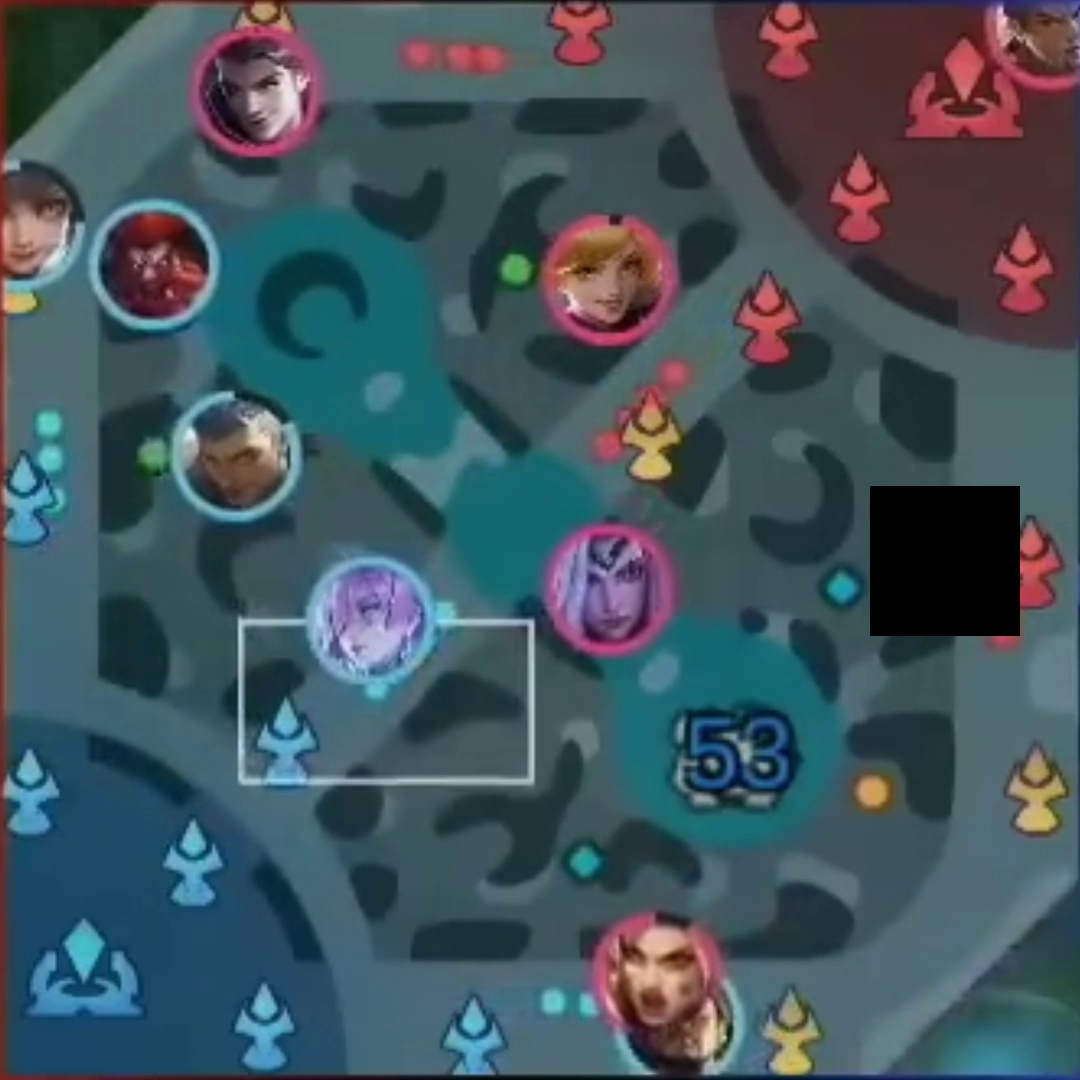Claude: (214, 45, 304, 139)
Fanny: (561, 236, 654, 327)
Fredrinn: (187, 409, 280, 509)
Lapu-Lapu: (659, 1004, 722, 1063)
Masha: (618, 928, 697, 1020)
Minotaur: (106, 215, 191, 309)
Novaria: (322, 574, 414, 670)
Valentina: (562, 542, 650, 644)
Wanwan: (5, 167, 75, 274)
